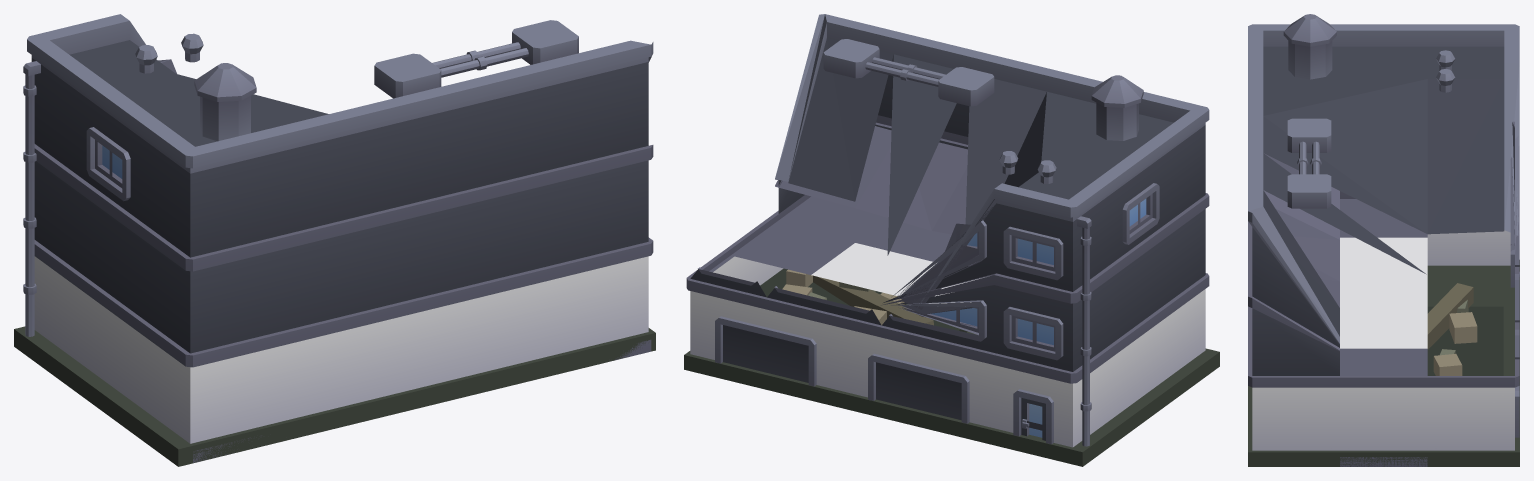
Rendered from building-a-ruined.glb.
3 views of the same model, side by side, from view 1: azimuth 30°, elevation 25°; view 2: azimuth 150°, elevation 25°; view 3: azimuth 270°, elevation 25° (orthographic). The views are drawn at different scales.
Parts seen in each view (by area): view 1: building-a-ruined; view 2: building-a-ruined; view 3: building-a-ruined.
Part boxes in pixels (x1,y1,x2,y2): building-a-ruined: (14,14,655,466); building-a-ruined: (684,14,1219,466); building-a-ruined: (1248,14,1519,466).
Bounding box in the file's own units: 2.08 × 1.47 × 1.24.
Materials: 7 (2 with a texture image).
